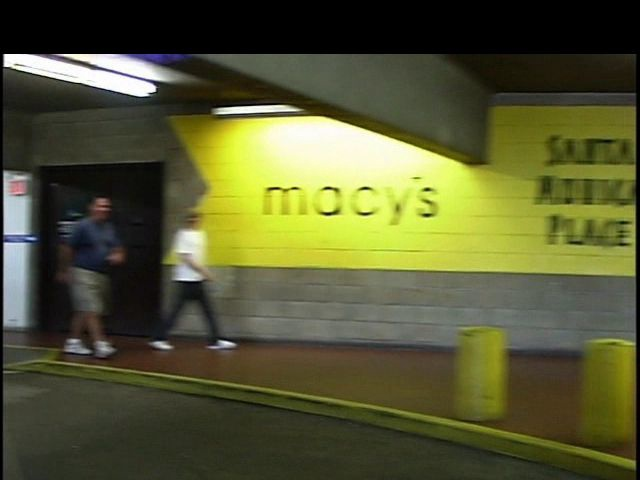person: (139, 195, 229, 365), (43, 185, 117, 364)
